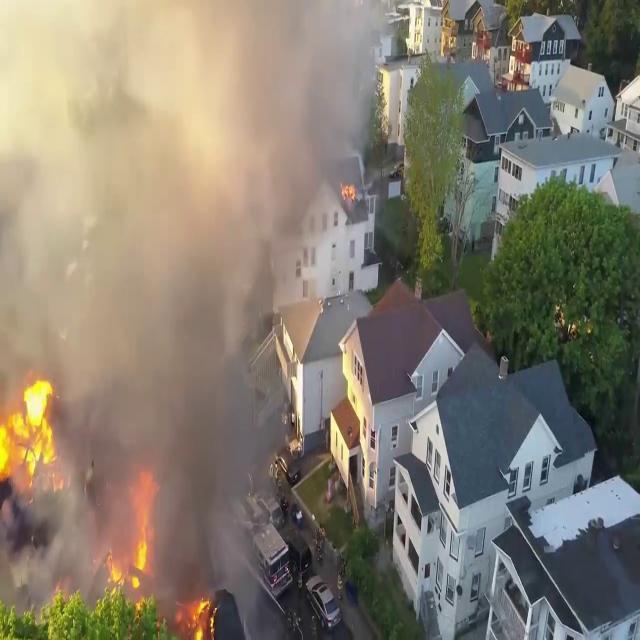Fire: (0, 372, 67, 500), (106, 465, 160, 608), (180, 588, 218, 640)
Smoke: (0, 0, 368, 577)
